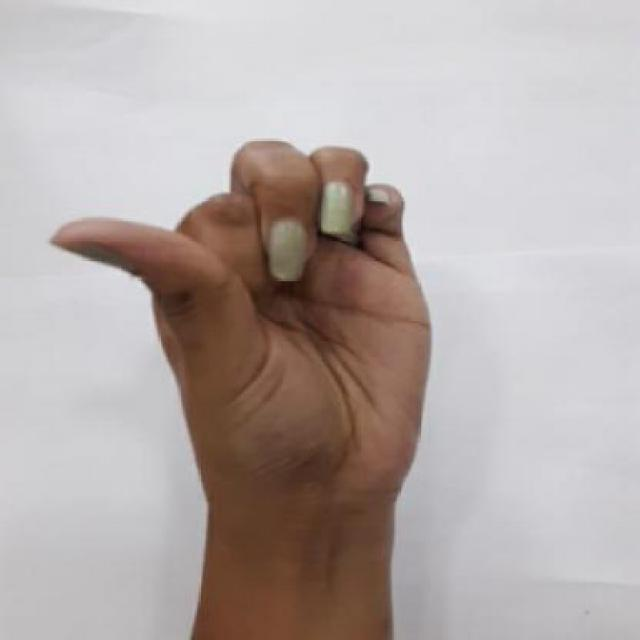without_gloves: (35, 122, 480, 560)
